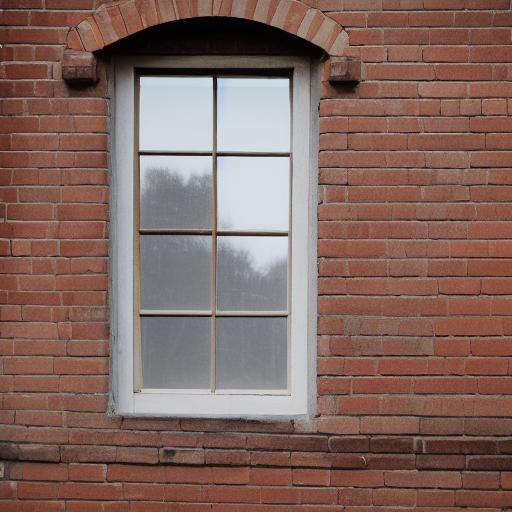Window: (55, 1, 363, 424)
